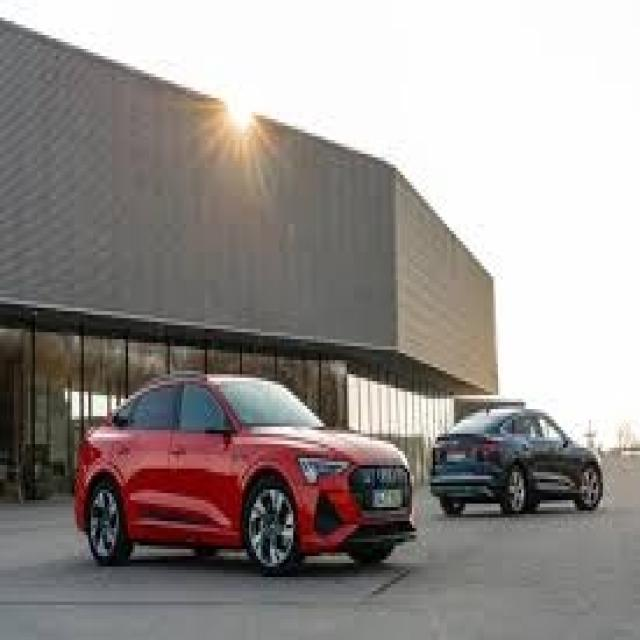black: (434, 401, 601, 516)
red: (70, 372, 418, 578)
